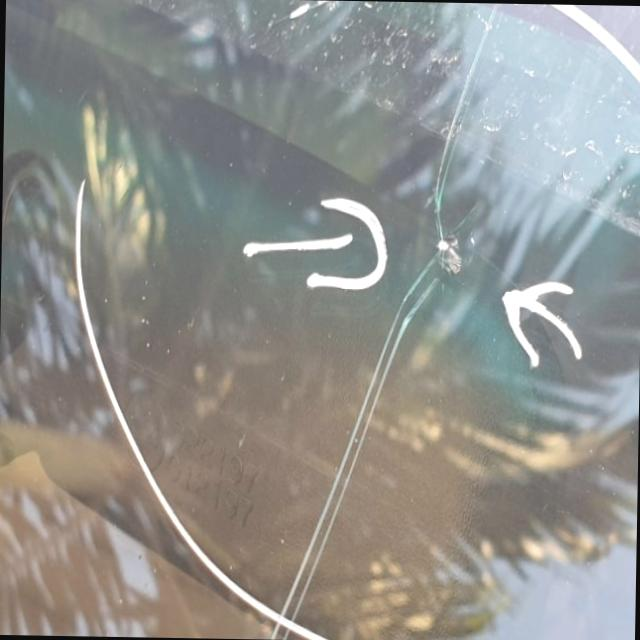Fissure: (238, 268, 435, 640), (420, 2, 523, 249), (381, 171, 493, 317)
